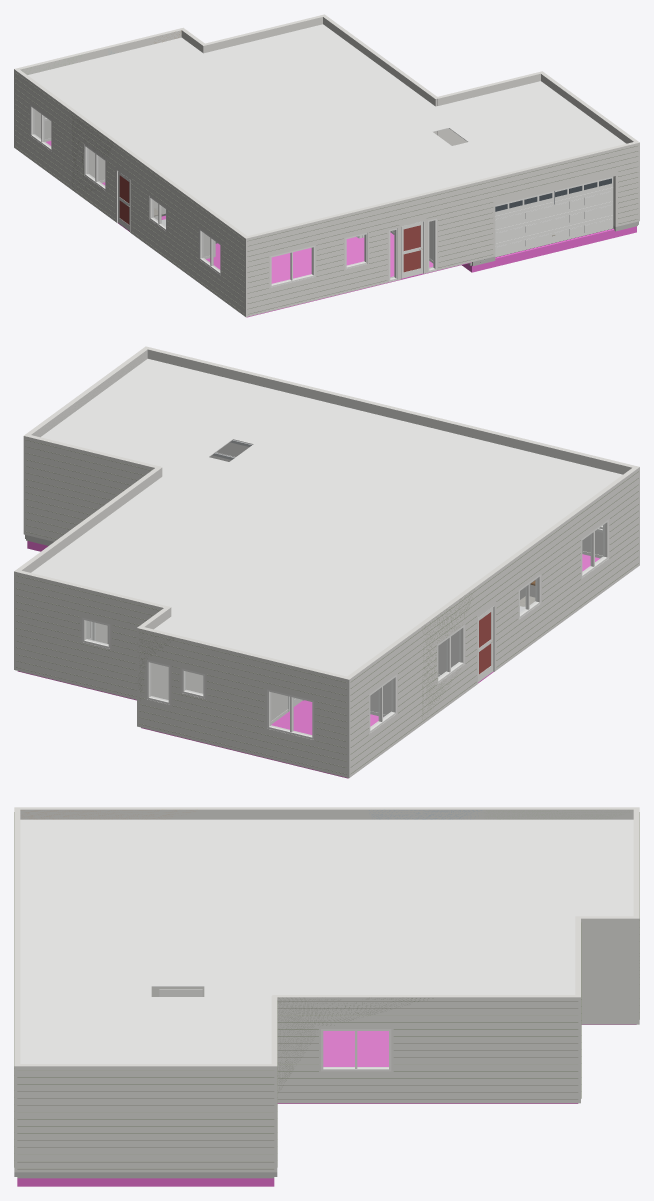
File: slab_house_floor1.glb
3 views of the same model, one above another, from view 1: azimuth 30°, elevation 25°; view 2: azimuth 150°, elevation 25°; view 3: azimuth 270°, elevation 25° (orthographic). The views are drawn at different scales.
Parts seen in each view (by area): view 1: ceil_1, col_floor1, trim_siding, door_garage_driveway_s1, door_garage_driveway_s2, door_garage_driveway_s3, win_living_1, door_garage_driveway_s4, room_living, door_foyer_outside, wall_1_main, win_living_2 (+7 smaller); view 2: ceil_1, col_floor1, trim_siding, win_bed2_7, wall_1_main, win_bed3_5, win_bed2_6, win_living_3, door_kitchen_outside, win_hall_9, win_master_bath_11, room_bed2_e (+2 smaller); view 3: ceil_1, col_floor1, trim_siding, win_master_10, wall_1_main, room_master, curb_garage_ext.
Part boxes in pixels (left/top/right/bottom): ceil_1: left=28, top=24, right=626, bottom=236; col_floor1: left=14, top=14, right=639, bottom=317; trim_siding: left=15, top=72, right=637, bottom=314; door_garage_driveway_s1: left=495, top=215, right=613, bottom=257; door_garage_driveway_s2: left=495, top=201, right=613, bottom=243; door_garage_driveway_s3: left=495, top=187, right=613, bottom=229; win_living_1: left=270, top=245, right=315, bottom=287; door_garage_driveway_s4: left=495, top=176, right=613, bottom=215; room_living: left=206, top=248, right=354, bottom=283; door_foyer_outside: left=401, top=222, right=423, bottom=278; wall_1_main: left=22, top=30, right=631, bottom=190; win_living_2: left=345, top=232, right=367, bottom=269; ceil_1: left=31, top=359, right=622, bottom=676; col_floor1: left=14, top=346, right=639, bottom=778; trim_siding: left=16, top=440, right=638, bottom=774; win_bed2_7: left=267, top=689, right=313, bottom=739; wall_1_main: left=33, top=352, right=474, bottom=719; win_bed3_5: left=437, top=625, right=464, bottom=683; win_bed2_6: left=369, top=675, right=396, bottom=732; win_living_3: left=581, top=519, right=608, bottom=577; door_kitchen_outside: left=478, top=607, right=493, bottom=681; win_hall_9: left=147, top=660, right=170, bottom=704; win_master_bath_11: left=82, top=617, right=110, bottom=648; room_bed2_e: left=271, top=700, right=312, bottom=731; ceil_1: left=20, top=819, right=633, bottom=1063; col_floor1: left=14, top=807, right=639, bottom=1186; trim_siding: left=14, top=812, right=639, bottom=1169; win_master_10: left=321, top=1029, right=391, bottom=1071; wall_1_main: left=20, top=809, right=629, bottom=1091; room_master: left=323, top=1031, right=388, bottom=1066; curb_garage_ext: left=17, top=1172, right=274, bottom=1178.
Size of the model in its own units: 16.03 by 3.5 by 16.33.
45 materials, 6 textured.
